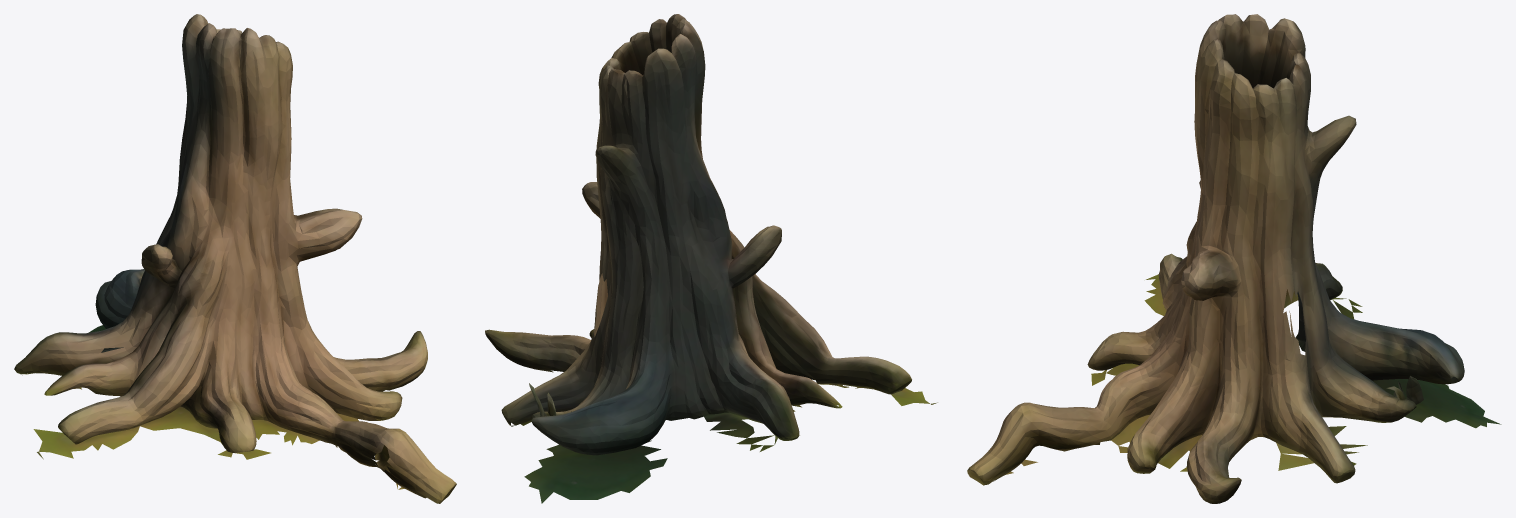
Rendered from terrain2_oak_0.glb.
3 views of the same model, side by side, from view 1: azimuth 30°, elevation 25°; view 2: azimuth 150°, elevation 25°; view 3: azimuth 270°, elevation 25° (orthographic). The views are drawn at different scales.
Visible parts, largest first — view 1: oak_0; view 2: oak_0; view 3: oak_0.
Part boxes in pixels (left/top/right/bottom): oak_0: left=14, top=14, right=456, bottom=503; oak_0: left=485, top=14, right=937, bottom=503; oak_0: left=967, top=14, right=1501, bottom=503.
Size of the model in its own units: 38.09 by 35.59 by 40.93.
Materials: 1 (1 with a texture image).
